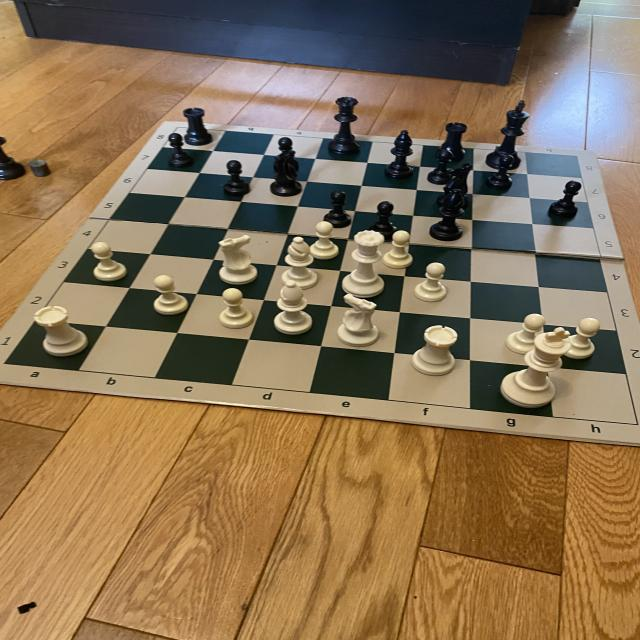Chessboard-Corners: (1, 355, 15, 370), (567, 152, 587, 160), (627, 417, 640, 429), (172, 125, 187, 132)
